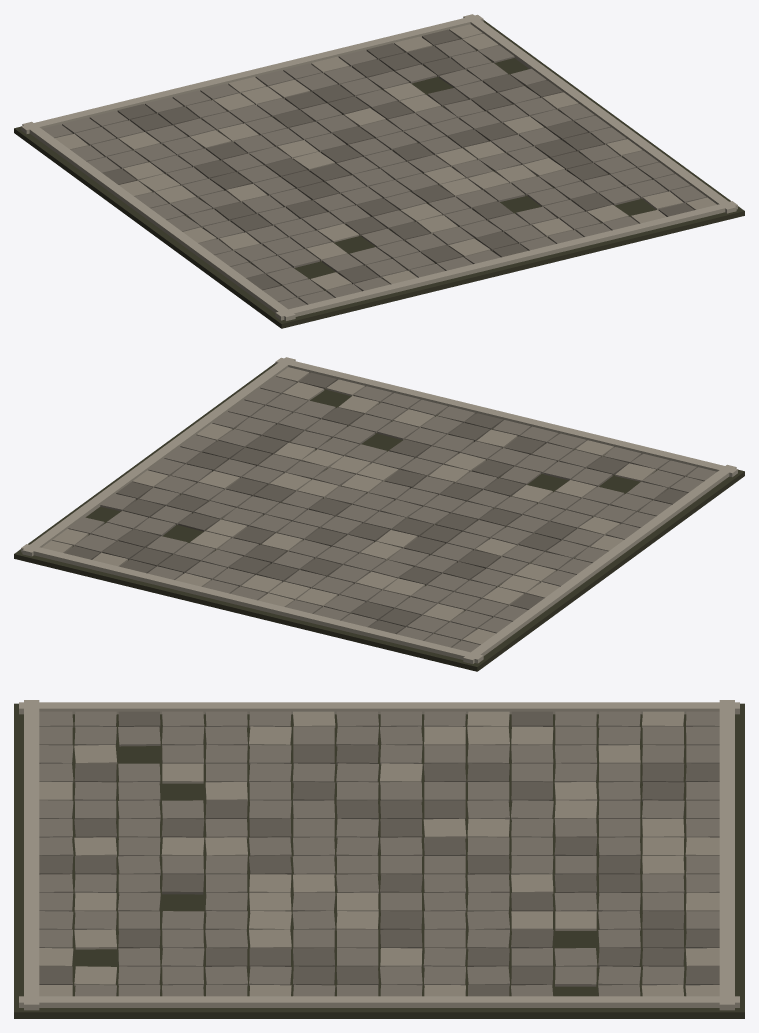
The model's file is V_Place_Pavee.glb.
3 views of the same model, one above another, from view 1: azimuth 30°, elevation 25°; view 2: azimuth 150°, elevation 25°; view 3: azimuth 270°, elevation 25° (orthographic). The views are drawn at different scales.
Parts seen in each view (by area): view 1: V_Place_Pavee; view 2: V_Place_Pavee; view 3: V_Place_Pavee.
Boxes of the visible parts, box(x1,y1,x2,y2) form: V_Place_Pavee: box(14, 14, 744, 328); V_Place_Pavee: box(14, 357, 744, 671); V_Place_Pavee: box(14, 700, 744, 1018).
Bounding box in the file's own units: 14.4 × 0.26 × 14.4.
